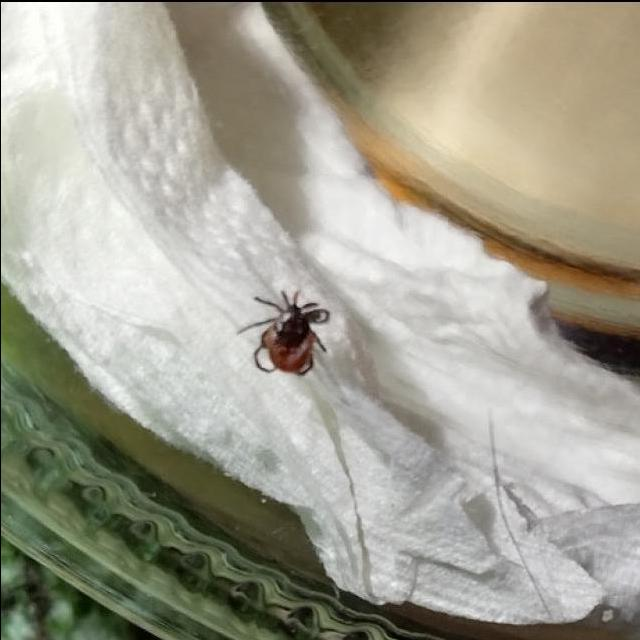Ixodes Ricinus-F: (243, 287, 328, 378)
